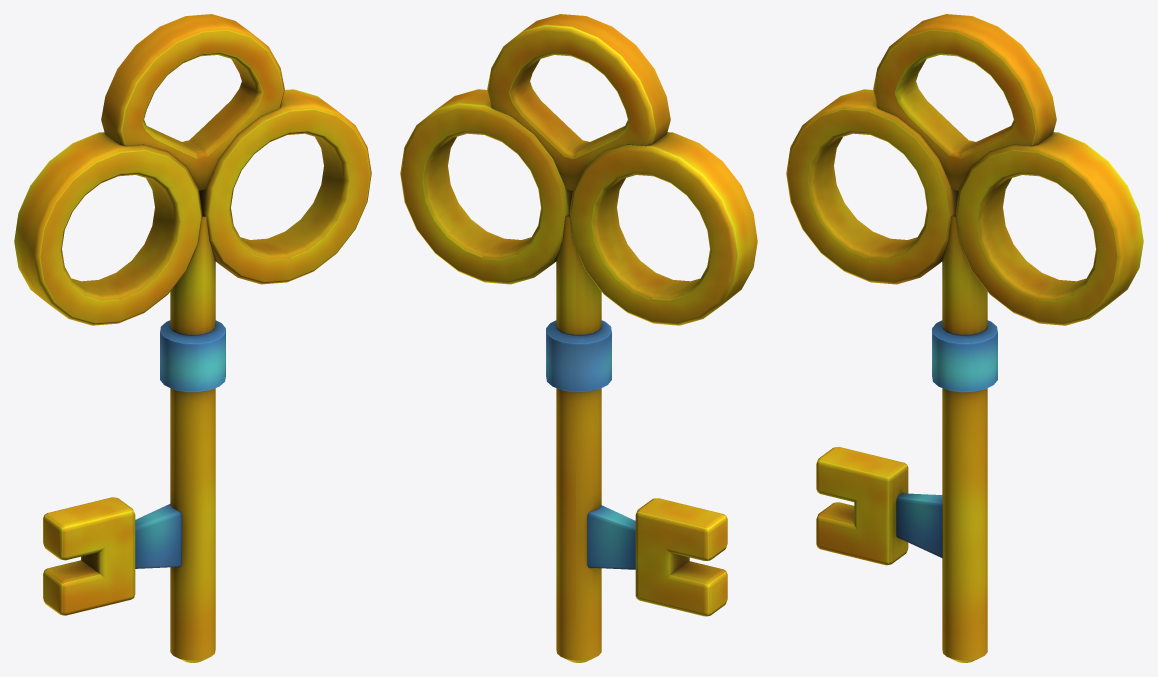
The model's file is Key.fbx.
The picture shows the model from 3 angles, left to right: view 1: azimuth 30°, elevation 25°; view 2: azimuth 150°, elevation 25°; view 3: azimuth 330°, elevation 25°; orthographic projection.
Parts seen in each view (by area): view 1: Key; view 2: Key; view 3: Key.
Boxes of the visible parts, x1,y1,x2,y2 form: Key: (14, 14, 371, 662); Key: (400, 14, 757, 662); Key: (786, 14, 1143, 662).
Bounding box in the file's own units: 0.096 × 0.1735 × 0.0163.
